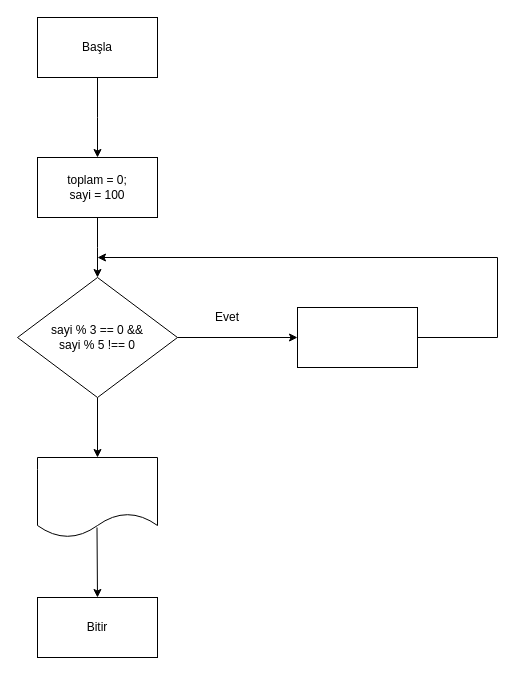
The diagram is 523 pixels wide and 675 high, and some of its shapes have lost their labels. The box of each missing label's shape, as (x1, y1, x2, y2) in pixels:
Toplam: (36, 456, 158, 538)
toplam++: (296, 306, 418, 368)
